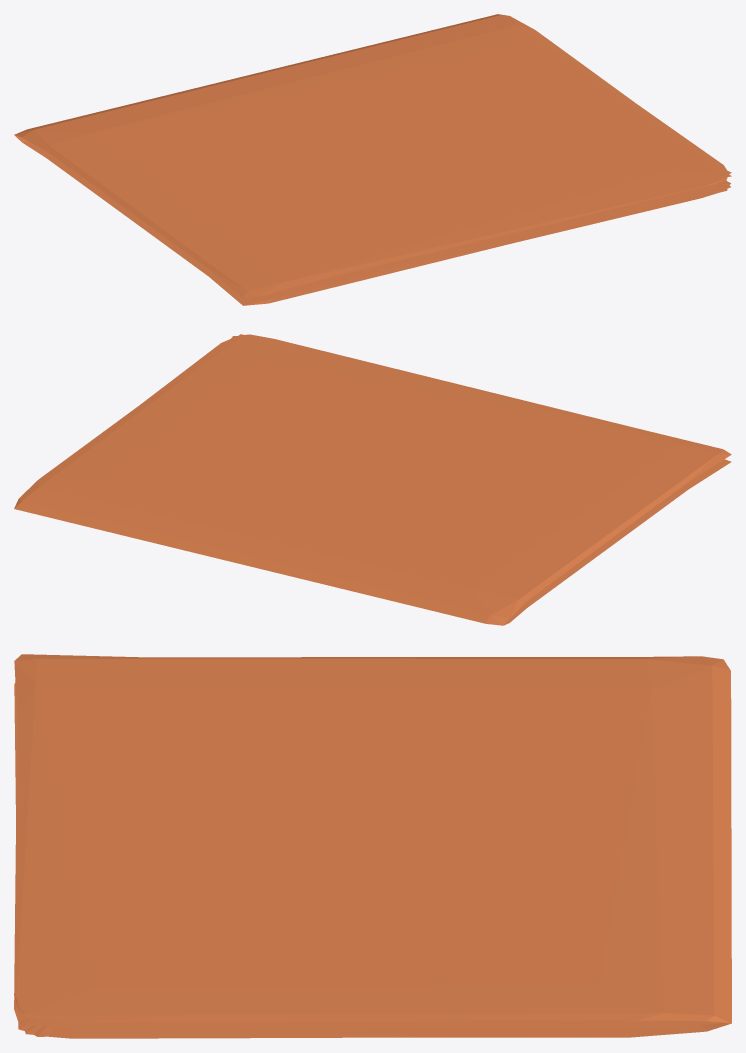
The model's file is Towel03Merged.fbx.
3 renders of one model, top to bottom at view 1: azimuth 30°, elevation 25°; view 2: azimuth 150°, elevation 25°; view 3: azimuth 270°, elevation 25°, orthographic. The views are drawn at different scales.
Parts seen in each view (by area): view 1: Towel03MergedLowPoly; view 2: Towel03MergedLowPoly; view 3: Towel03MergedLowPoly.
Part boxes in pixels (x1,y1,x2,y2): Towel03MergedLowPoly: (14, 14, 731, 305); Towel03MergedLowPoly: (14, 334, 731, 625); Towel03MergedLowPoly: (14, 654, 731, 1038).
Size of the model in its own units: 18.01 by 0.4195 by 14.72.
